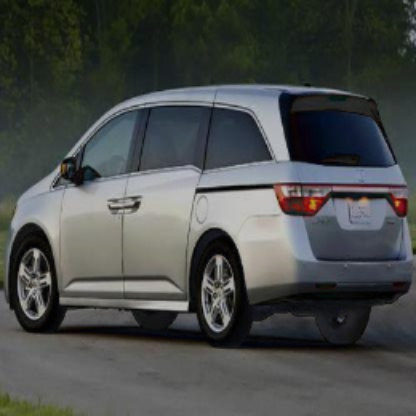Vehicle: (1, 83, 415, 351)
